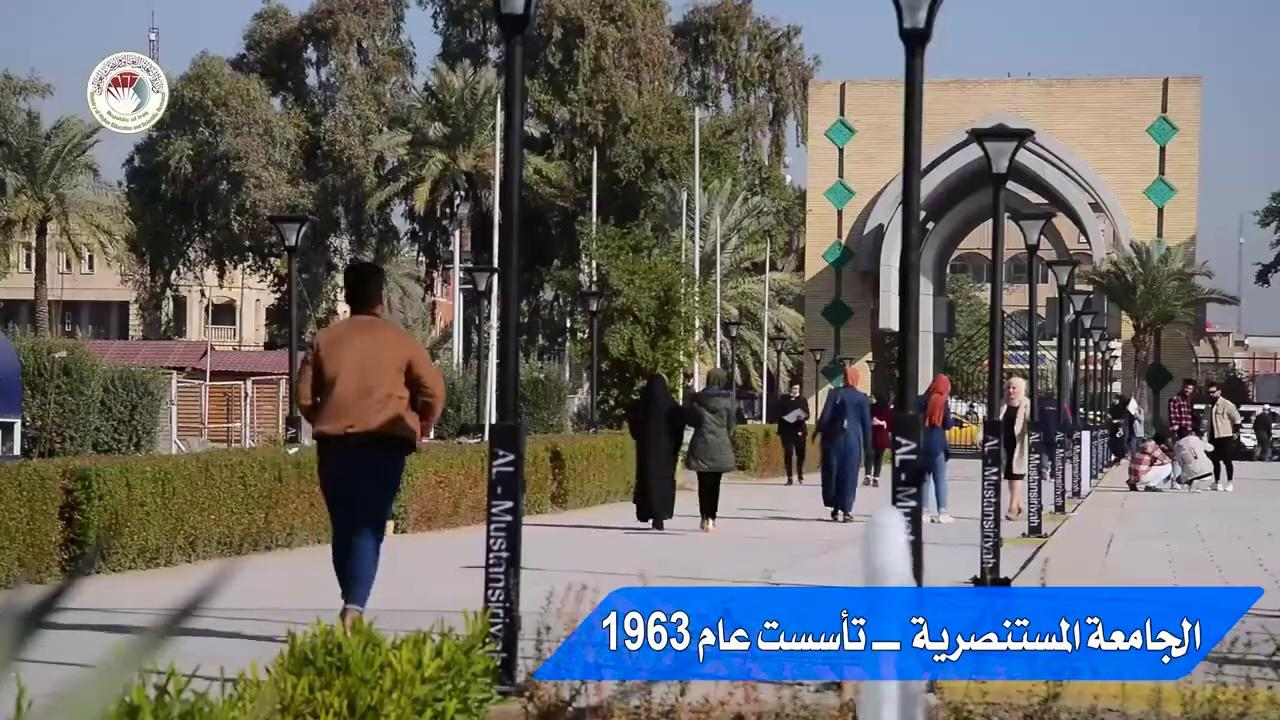car: (1235, 403, 1279, 460)
person: (293, 261, 446, 637), (811, 365, 873, 522), (626, 371, 687, 530), (683, 367, 738, 531), (917, 373, 954, 524), (999, 376, 1030, 521), (1203, 381, 1243, 491), (1167, 377, 1198, 490), (775, 382, 809, 485), (1037, 388, 1073, 482), (862, 390, 892, 487), (1173, 432, 1214, 488), (1252, 403, 1274, 461)
tree: (575, 82, 1280, 520), (134, 13, 436, 450), (367, 55, 581, 437), (520, 0, 689, 428), (474, 16, 668, 349), (662, 0, 819, 408), (480, 53, 680, 346), (0, 66, 133, 338), (1082, 236, 1240, 437), (573, 212, 712, 426), (679, 175, 778, 397), (722, 266, 805, 420), (942, 271, 992, 405), (1250, 189, 1279, 288)
